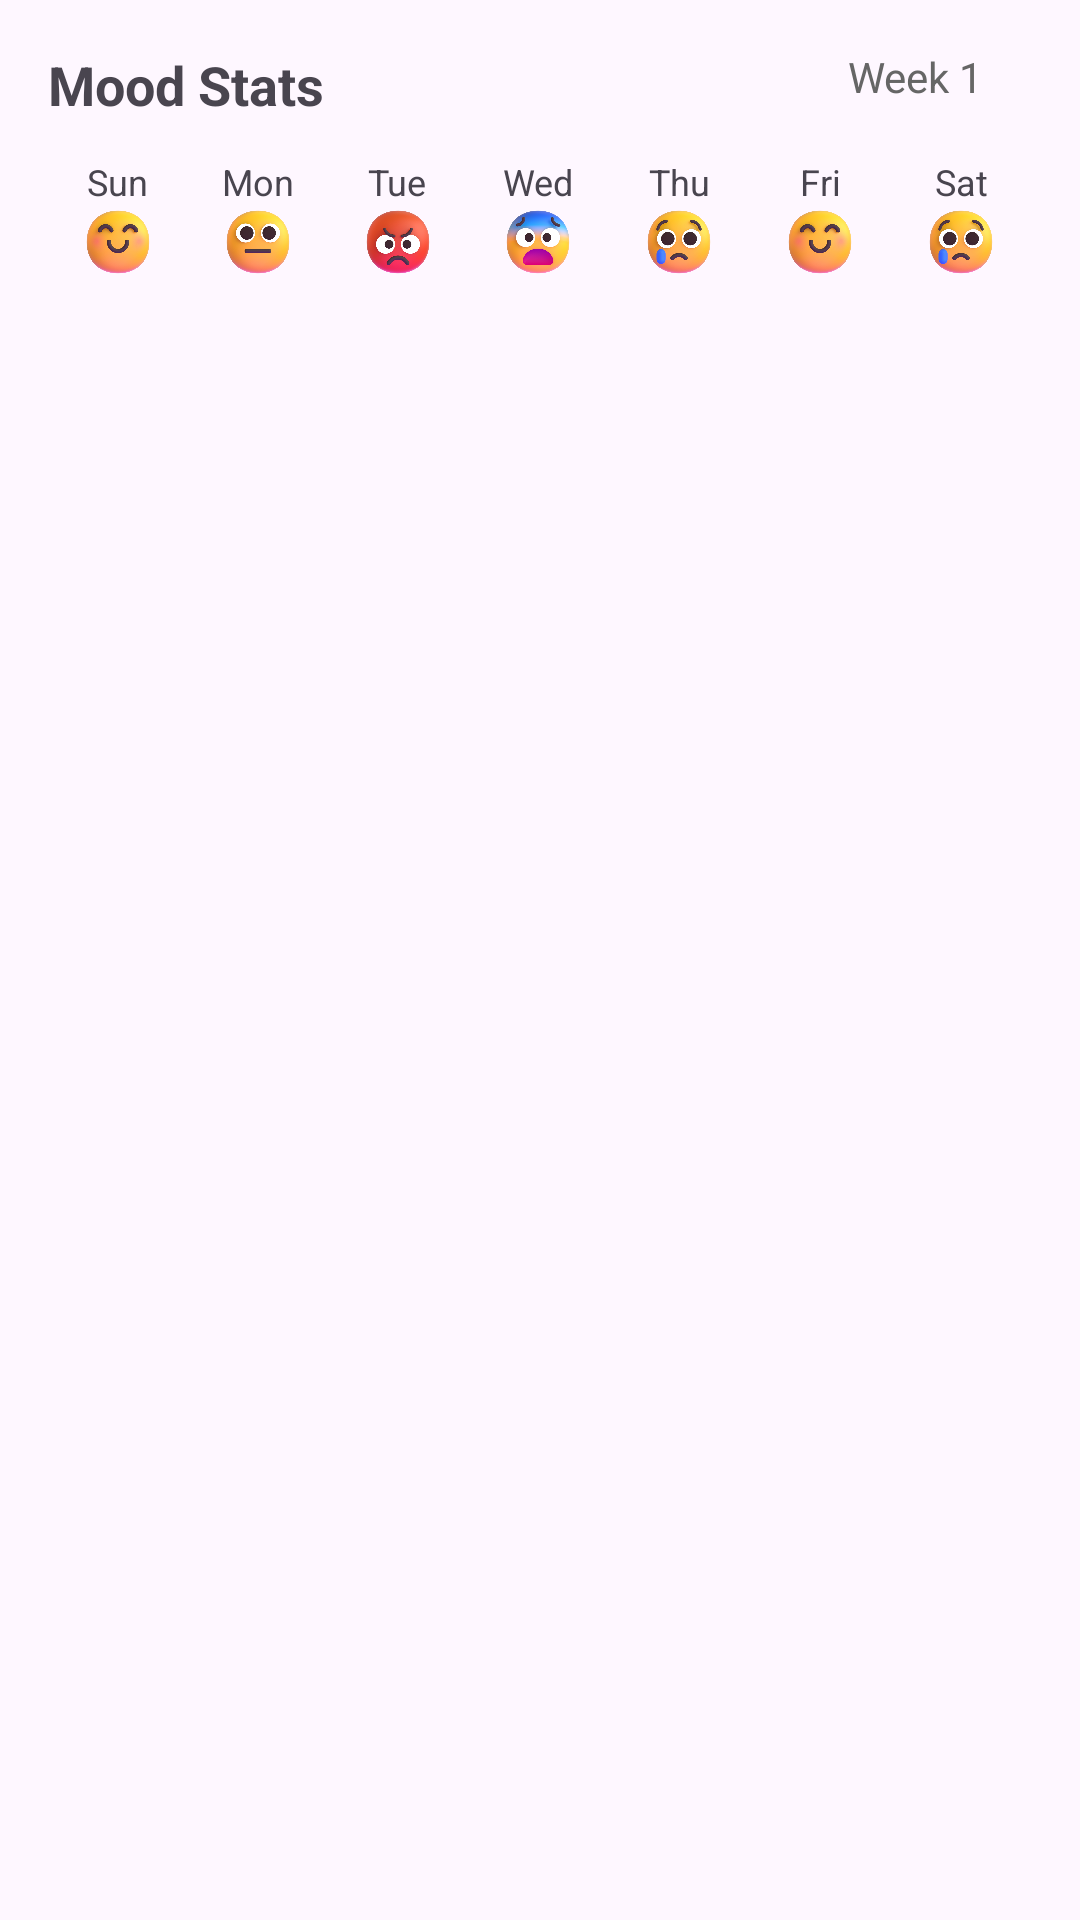

Icons on this 1080w x 1920h Android screen, each with the point to tap as [x,y]:
foto emoteanggry: [398,242]
foto emotefear: [538,242]
foto emotehappy: [118,242], [820,242]
foto emotenetral: [258,242]
foto emotesad: [679,242], [961,242]
